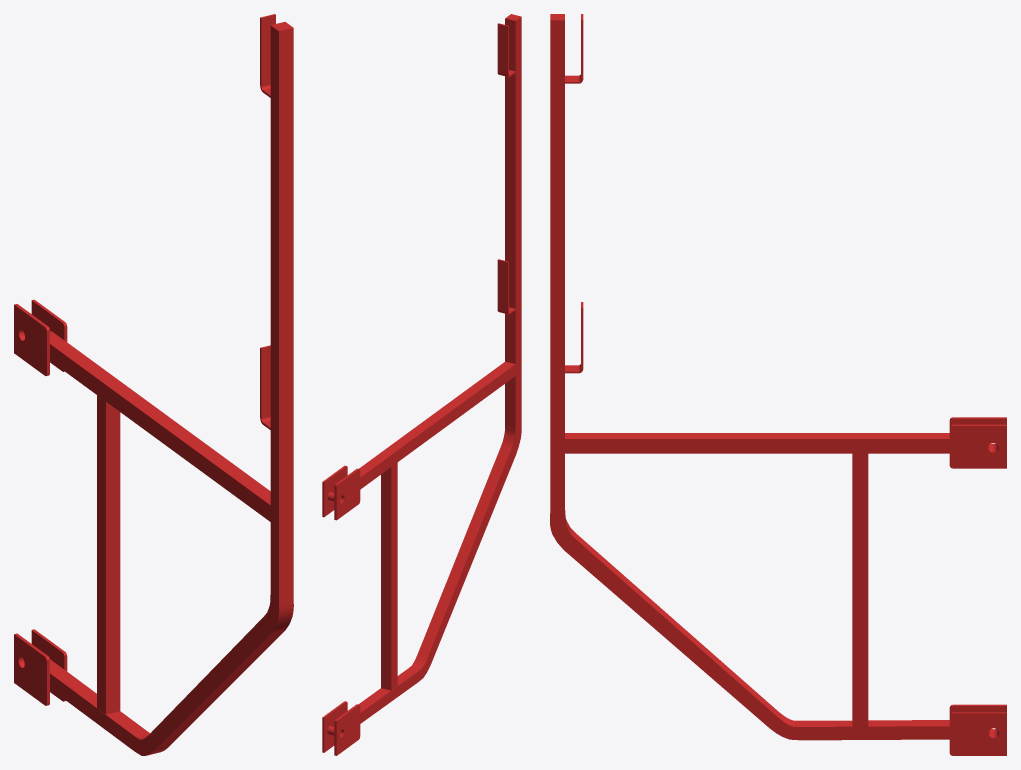
Rendered from scaffold-bracket.glb.
3 views of the same model, side by side, from view 1: azimuth 30°, elevation 25°; view 2: azimuth 150°, elevation 25°; view 3: azimuth 270°, elevation 25° (orthographic). The views are drawn at different scales.
Parts seen in each view (by area): view 1: scaffold_bracket; view 2: scaffold_bracket; view 3: scaffold_bracket.
Boxes of the visible parts, x1,y1,x2,y2 form: scaffold_bracket: (14, 14, 293, 755); scaffold_bracket: (322, 14, 521, 755); scaffold_bracket: (550, 14, 1006, 755).
Size of the model in its own units: 0.0389 by 1.54 by 0.8665.
1 material, 1 textured.
